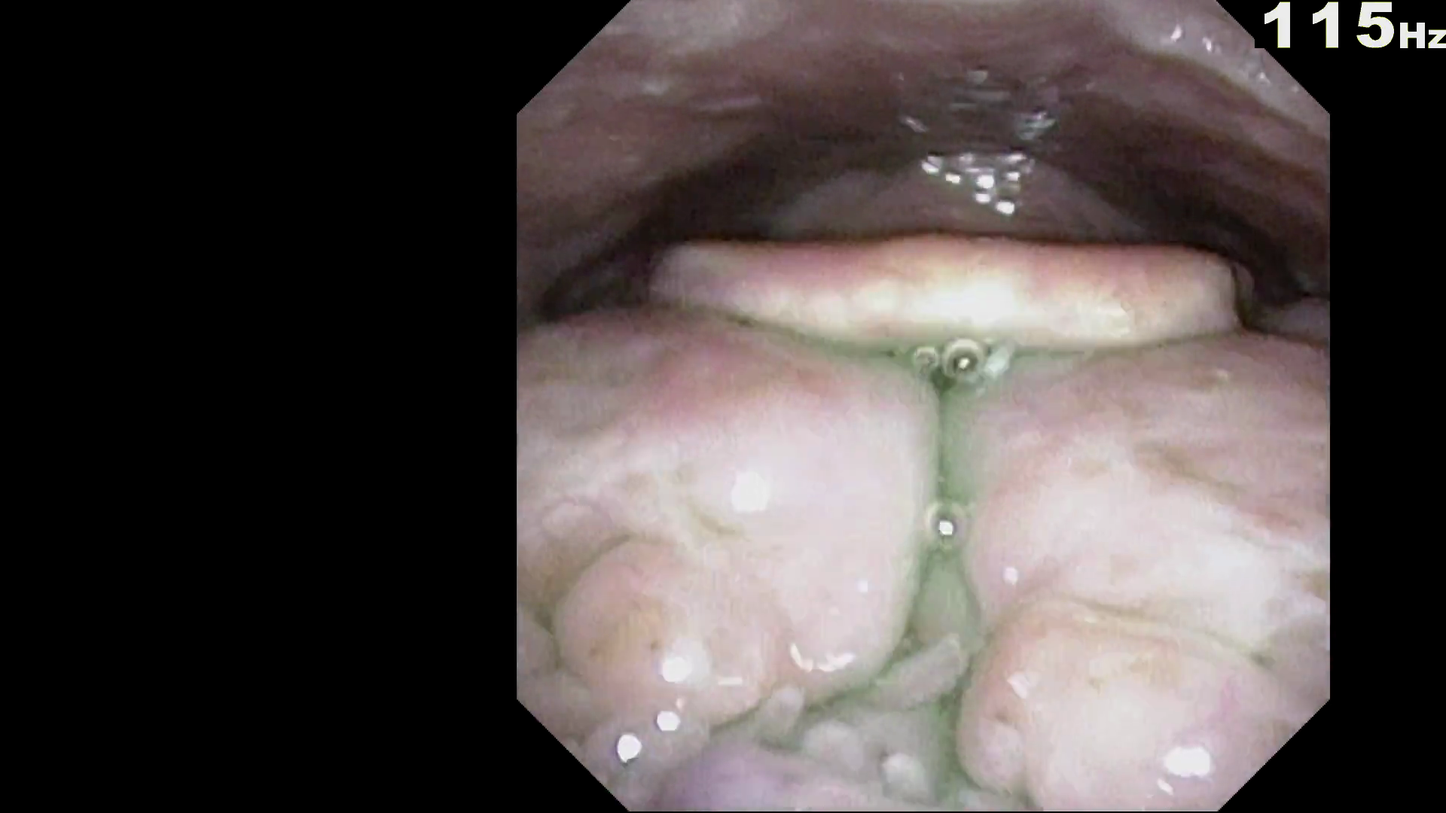epiglottis: (577, 295, 1291, 447)
trachea: (859, 355, 1045, 447), (933, 342, 1048, 473)
